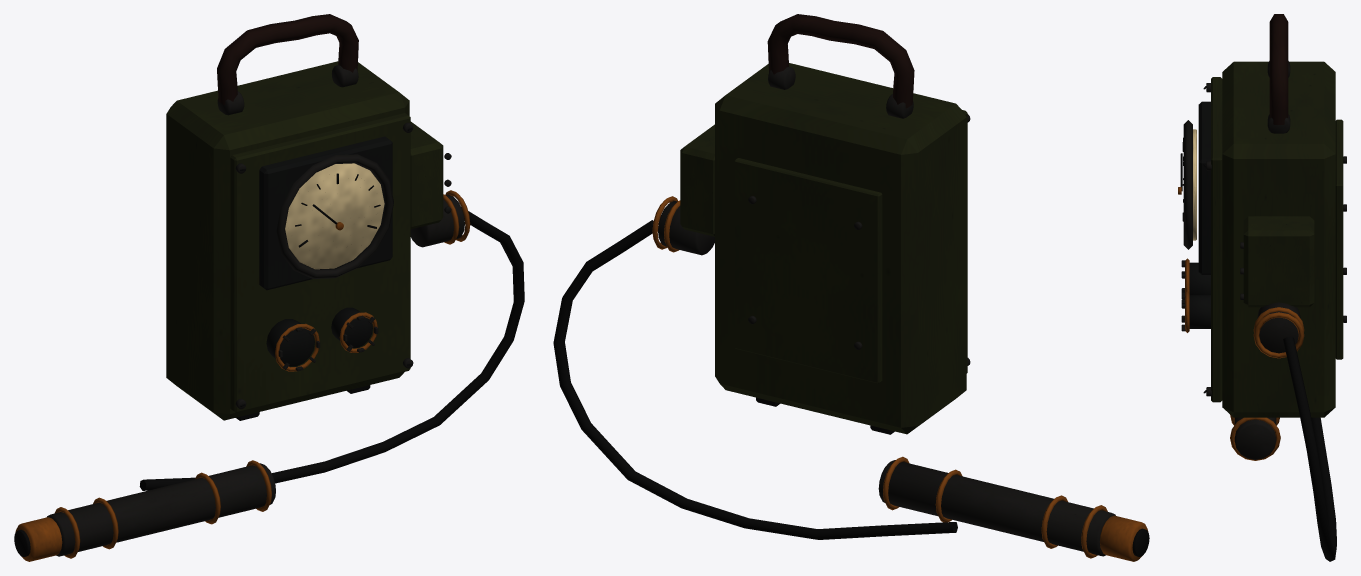
The model's file is vintage_geiger_counter_LOD1.glb.
The picture shows the model from 3 angles, left to right: view 1: azimuth 30°, elevation 25°; view 2: azimuth 150°, elevation 25°; view 3: azimuth 270°, elevation 25°; orthographic projection. The views are drawn at different scales.
Visible parts, largest first — view 1: Rounded detector case, Raised front face plate, Hand probe body, Meter cream face, Upper meter housing, Probe cable, Top leather handle, Meter polished bezel, Side connector box, Control knob 0, Probe brass aperture, Side connector (+1 smaller); view 2: Rounded detector case, Rear service panel inferred, Hand probe body, Probe cable, Top leather handle, Side connector box, Probe brass aperture, Side connector; view 3: Rounded detector case, Side connector box, Raised front face plate, Probe cable, Upper meter housing, Rear service panel inferred, Top leather handle, Hand probe body, Side connector, Meter polished bezel, Control knob 1, Connector collar.001 (+5 smaller).
Part boxes in pixels (x1,y1,x2,y2): Rounded detector case: [166, 61, 409, 420]; Raised front face plate: [230, 113, 410, 412]; Hand probe body: [47, 463, 275, 556]; Meter cream face: [285, 163, 384, 269]; Upper meter housing: [259, 136, 392, 290]; Probe cable: [139, 207, 524, 490]; Top leather handle: [217, 14, 358, 104]; Meter polished bezel: [276, 154, 393, 278]; Side connector box: [410, 121, 443, 229]; Control knob 0: [266, 319, 314, 366]; Probe brass aperture: [15, 517, 62, 561]; Side connector: [410, 194, 464, 247]; Rounded detector case: [715, 63, 966, 434]; Rear service panel inferred: [734, 158, 882, 383]; Hand probe body: [878, 460, 1115, 556]; Probe cable: [553, 220, 957, 539]; Top leather handle: [767, 14, 914, 108]; Side connector box: [680, 124, 714, 236]; Probe brass aperture: [1100, 515, 1148, 561]; Side connector: [658, 201, 714, 255]; Rounded detector case: [1222, 61, 1335, 417]; Side connector box: [1243, 216, 1314, 307]; Raised front face plate: [1211, 77, 1222, 402]; Probe cable: [1283, 336, 1336, 561]; Upper meter housing: [1198, 101, 1210, 274]; Rear service panel inferred: [1335, 119, 1343, 359]; Top leather handle: [1269, 14, 1288, 124]; Hand probe body: [1234, 417, 1276, 459]; Side connector: [1257, 302, 1300, 353]; Meter polished bezel: [1183, 120, 1192, 249]; Control knob 1: [1189, 295, 1210, 328]; Connector collar.001: [1253, 312, 1304, 358].
Size of the model in its own units: 0.6293 by 0.5443 by 0.179.
Materials: 7 (7 with a texture image).
